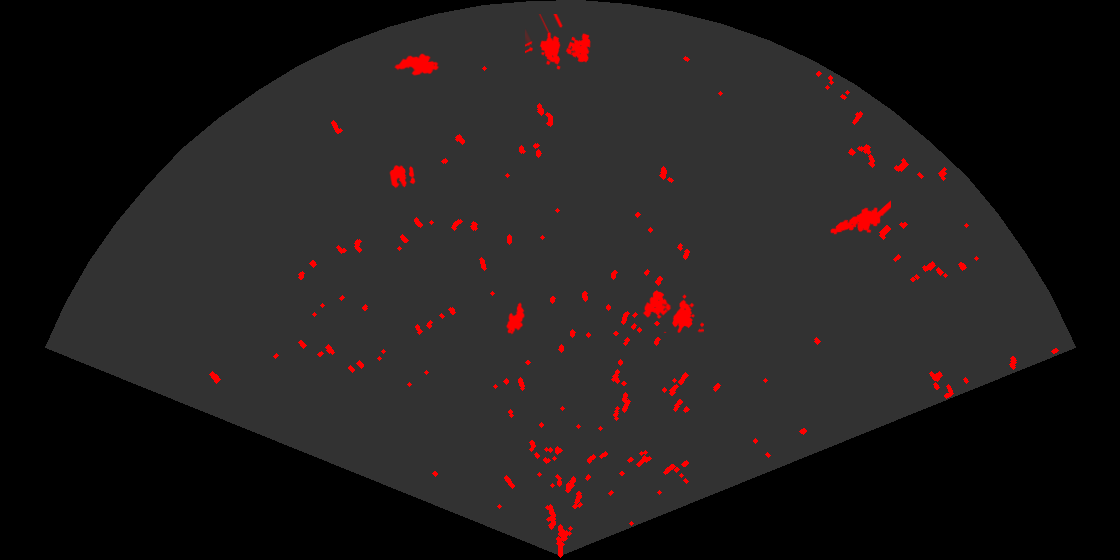AUV: (393, 52, 441, 77), (504, 301, 526, 336)
ball: (388, 164, 417, 190)
cage: (525, 14, 592, 71), (641, 288, 704, 333)
frogman: (829, 199, 891, 236)
